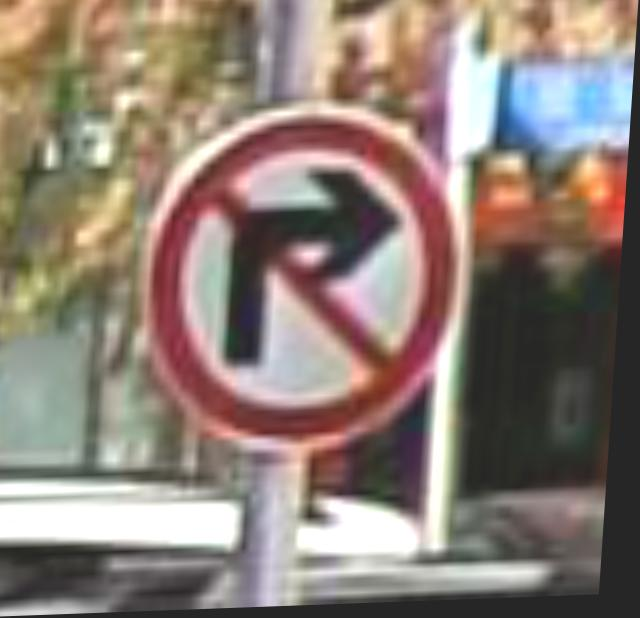not_turn_right: (144, 106, 475, 465)
